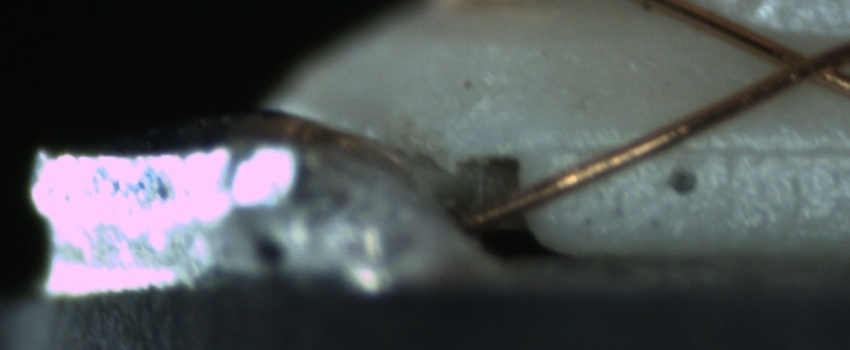CL: (760, 35, 845, 92)
DL: (550, 118, 848, 179)
